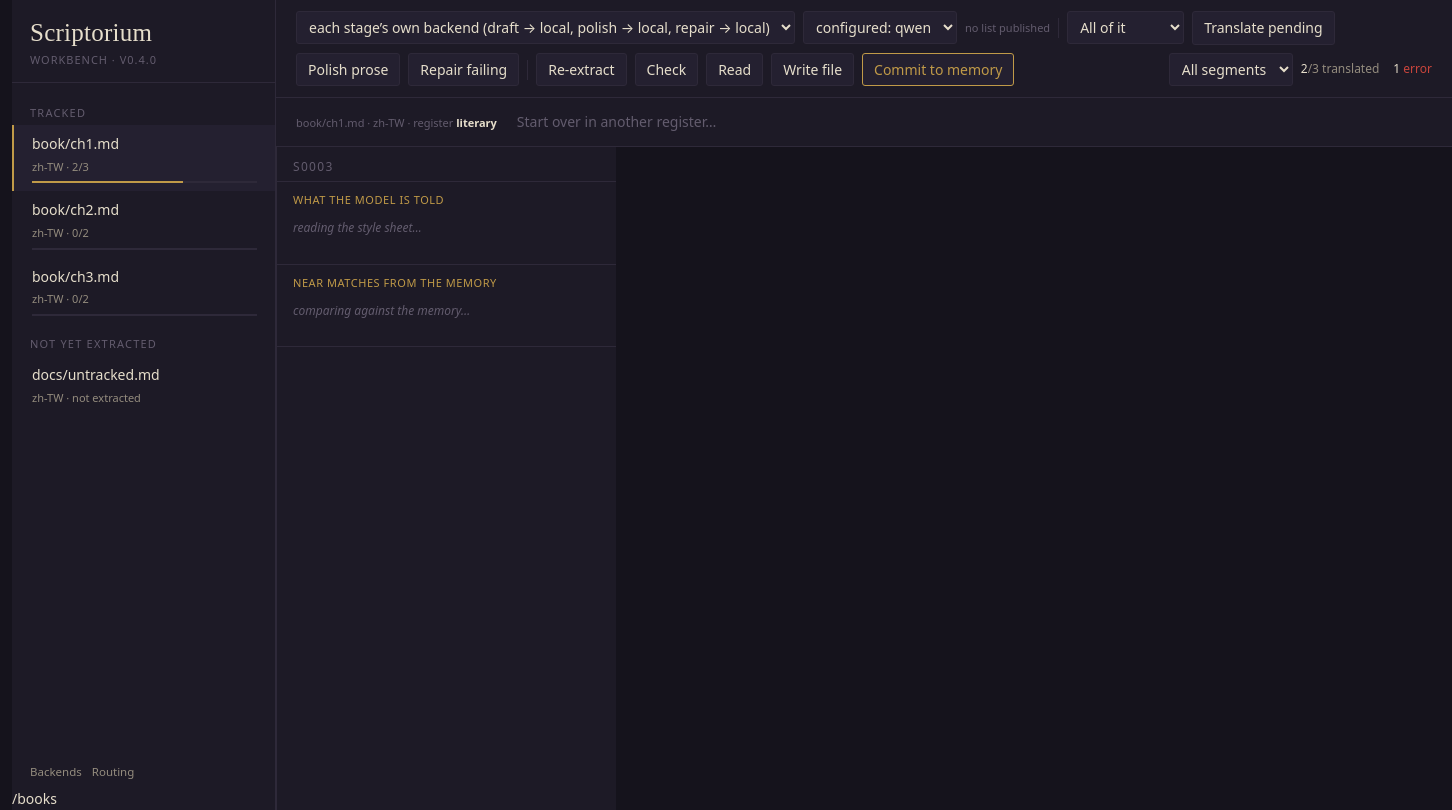
Scenario: what the page acts on is what it has just read › offers nothing when a tracked document's read fails, whatever else is listed
The width and height of the screenshot is (1452, 810).
expect the text "/3 translated" is shown: met, box [1301,60,1379,79]
Click the button "book/ch2.md zh-TW · 0/2".
click(76, 210)  # box [12,191,275,258]
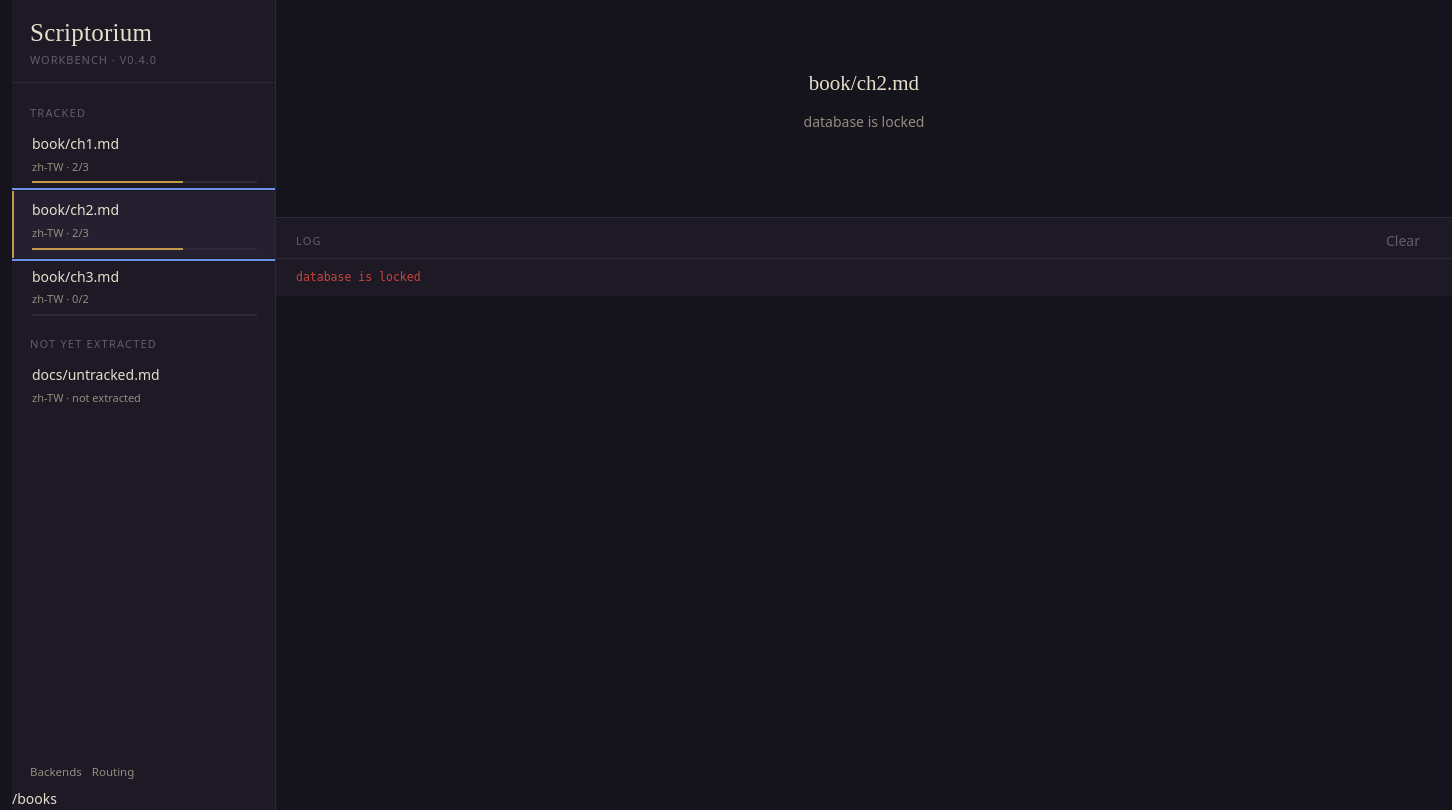
expect the button "Extract " is not shown: met
expect the 1st text "database is locked" is shown: met, box [804,111,924,133]
